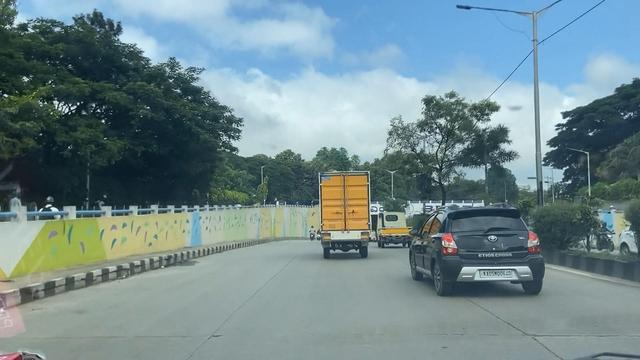HMV: (318, 172, 376, 252)
LMV: (407, 210, 546, 295)
